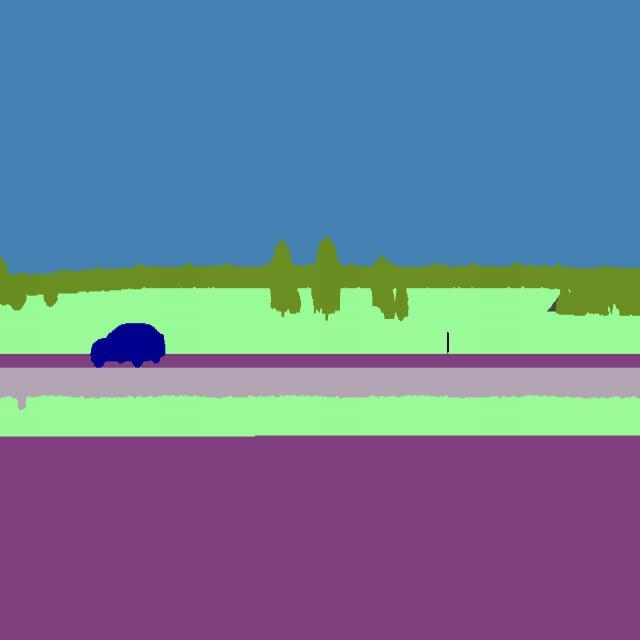safe: (85, 318, 168, 369)
